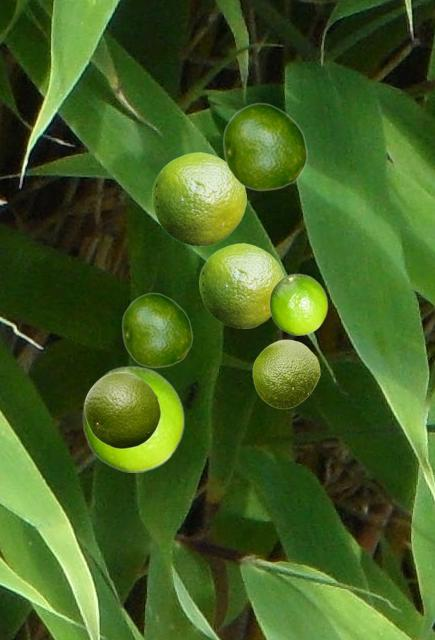calamansi: (82, 365, 184, 471), (152, 152, 245, 245), (222, 102, 307, 190), (199, 243, 284, 327), (84, 371, 160, 448), (121, 292, 192, 367), (252, 339, 319, 408), (269, 273, 327, 334)
